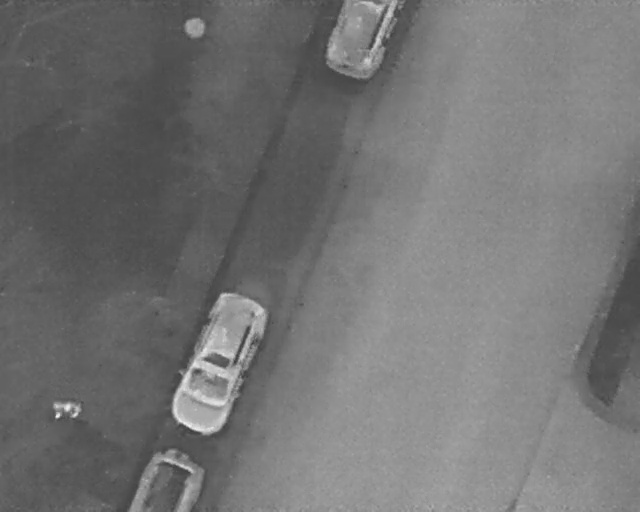Car: (164, 285, 272, 440), (326, 0, 400, 80), (128, 447, 204, 512)
Person: (64, 398, 83, 420), (50, 400, 63, 420)
